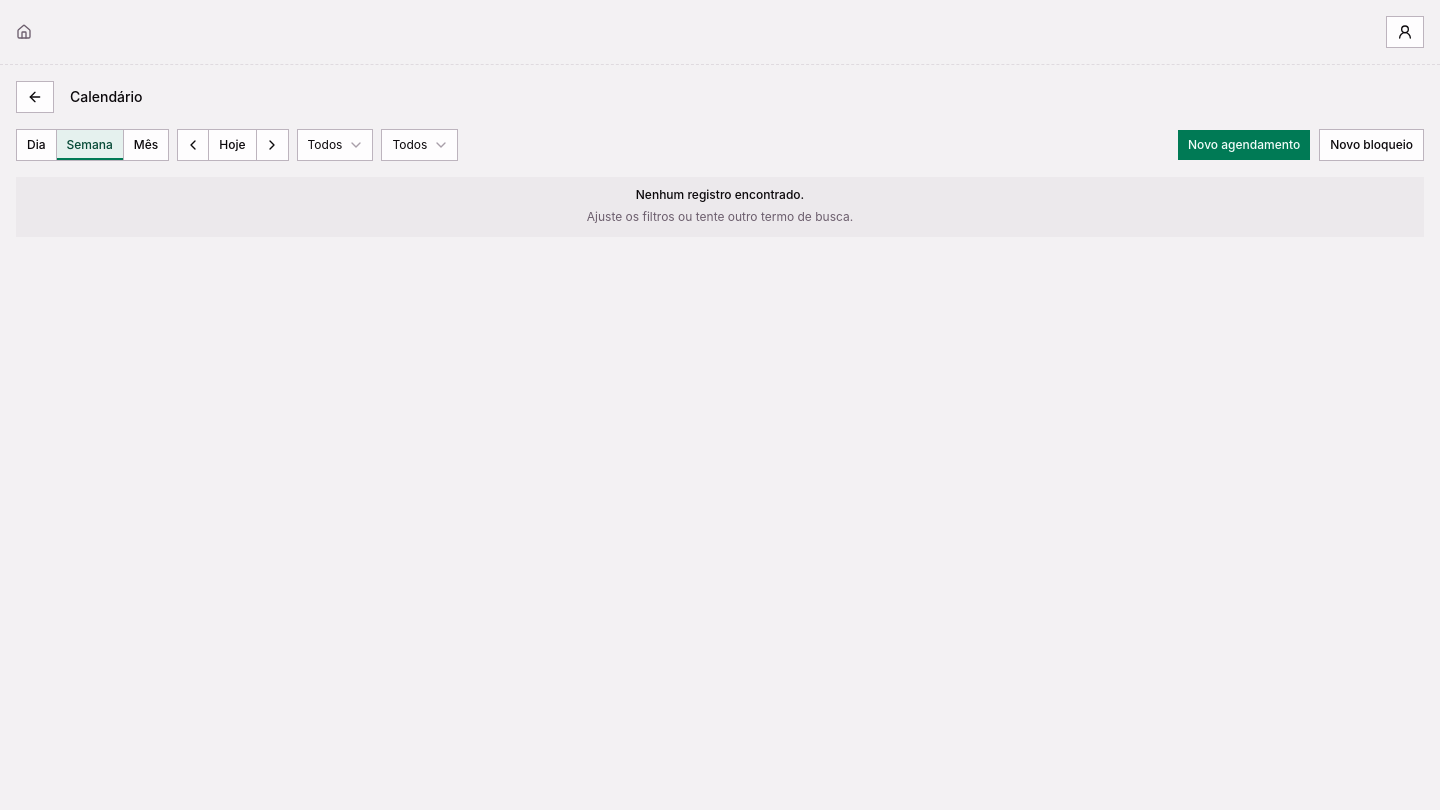
Test: CalendarIndexPage (T39, spec.md SCH-29 — visões de dia/semana/mês) › clicking "Novo bloqueio" opens the BlockPanel inline
Step 1. Click the button "Novo bloqueio" → x=1372, y=145, box [1319,129,1424,161]
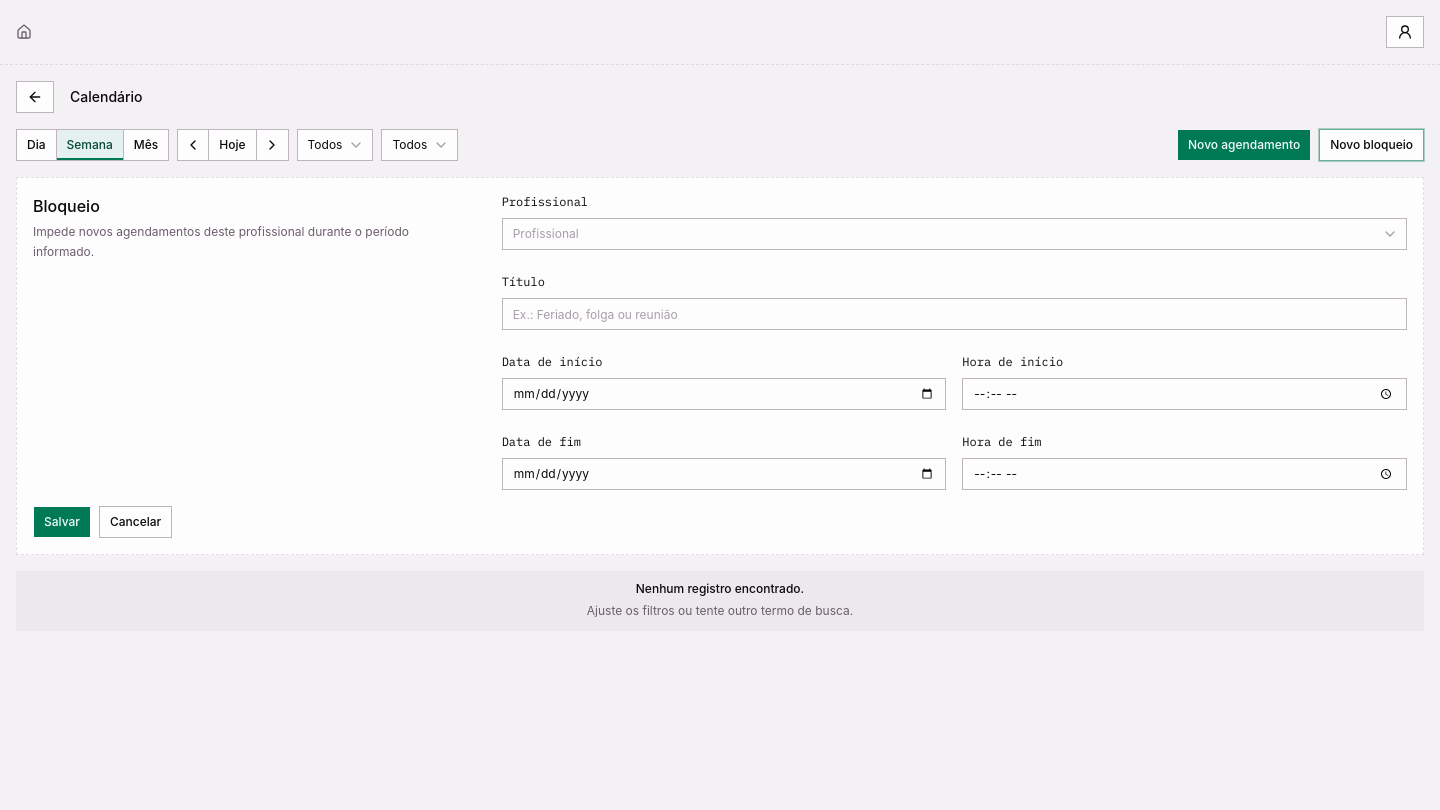
Expected: the text "Bloqueio" is shown, [33,194,100,218]
